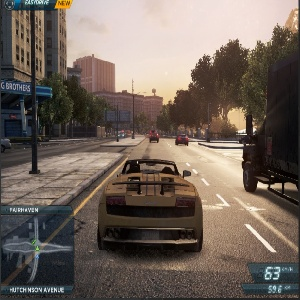building: (76, 54, 115, 131)
lamp post: (20, 1, 55, 174), (126, 87, 148, 142)
tree: (247, 26, 297, 129), (192, 48, 246, 135), (43, 75, 73, 140), (170, 83, 210, 129), (66, 75, 94, 137)
vehicle: (240, 90, 300, 197), (144, 127, 162, 144), (175, 133, 189, 146)
